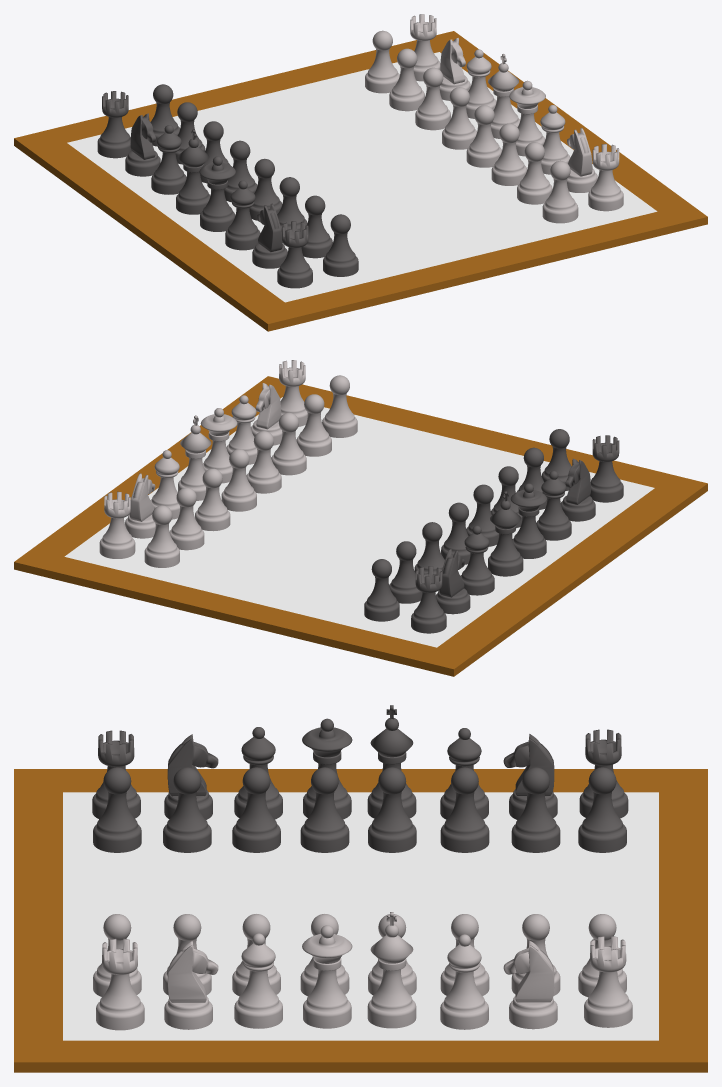
Rendered from xadrez.glb.
The picture shows the model from 3 angles, top to bottom: view 1: azimuth 30°, elevation 25°; view 2: azimuth 150°, elevation 25°; view 3: azimuth 270°, elevation 25°; orthographic projection. The views are drawn at different scales.
Visible parts, largest first — view 1: Cube.002, Circle.029, Circle.028, Circle.001, Circle.031, Circle.026, Circle.030, Circle.025, Circle.024, Circle.027, Circle.003, Circle (+21 smaller); view 2: Cube.002, Circle.028, Circle.029, Circle.026, Circle.006, Circle.031, Circle.030, Circle.024, Circle.003, Circle.027, Circle.025, Circle.015 (+21 smaller); view 3: Cube.002, Circle.003, Circle.004, Circle.005, Circle.007, Circle.001, Circle.006, Circle.008, Circle.002, Circle.017, Circle.020, Circle.018 (+21 smaller).
Part boxes in pixels (box(x1,y1,x2,y2)): Cube.002: box(14, 31, 707, 331); Circle.029: box(199, 156, 235, 231); Circle.028: box(176, 129, 210, 214); Circle.001: box(588, 144, 623, 211); Circle.031: box(277, 221, 312, 288); Circle.026: box(97, 91, 131, 158); Circle.030: box(225, 180, 260, 250); Circle.025: box(125, 113, 160, 176); Circle.024: box(151, 125, 186, 194); Circle.027: box(252, 203, 287, 268); Circle.003: box(509, 80, 545, 156); Circle: box(542, 160, 578, 223); Cube.002: box(14, 376, 707, 676); Circle.028: box(488, 491, 523, 576); Circle.029: box(510, 483, 547, 558); Circle.026: box(411, 566, 446, 633); Circle.006: box(99, 491, 135, 558); Circle.031: box(590, 435, 623, 502); Circle.030: box(536, 471, 571, 540); Circle.024: box(460, 525, 494, 595); Circle.003: box(200, 408, 237, 483); Circle.027: box(561, 458, 595, 521); Circle.025: box(436, 549, 470, 614); Circle.015: box(144, 505, 179, 567); Cube.002: box(14, 769, 707, 1072); Circle.003: box(302, 925, 352, 1028); Circle.004: box(367, 912, 416, 1028); Circle.005: box(164, 940, 218, 1029); Circle.007: box(503, 940, 557, 1029); Circle.001: box(96, 938, 144, 1030); Circle.006: box(584, 936, 632, 1027); Circle.008: box(440, 934, 488, 1029); Circle.002: box(234, 933, 282, 1028); Circle.017: box(511, 767, 560, 852); Circle.020: box(300, 767, 349, 852); Circle.018: box(440, 767, 489, 852).
Bounding box in the file's own units: 20.7 × 3.81 × 20.7.
